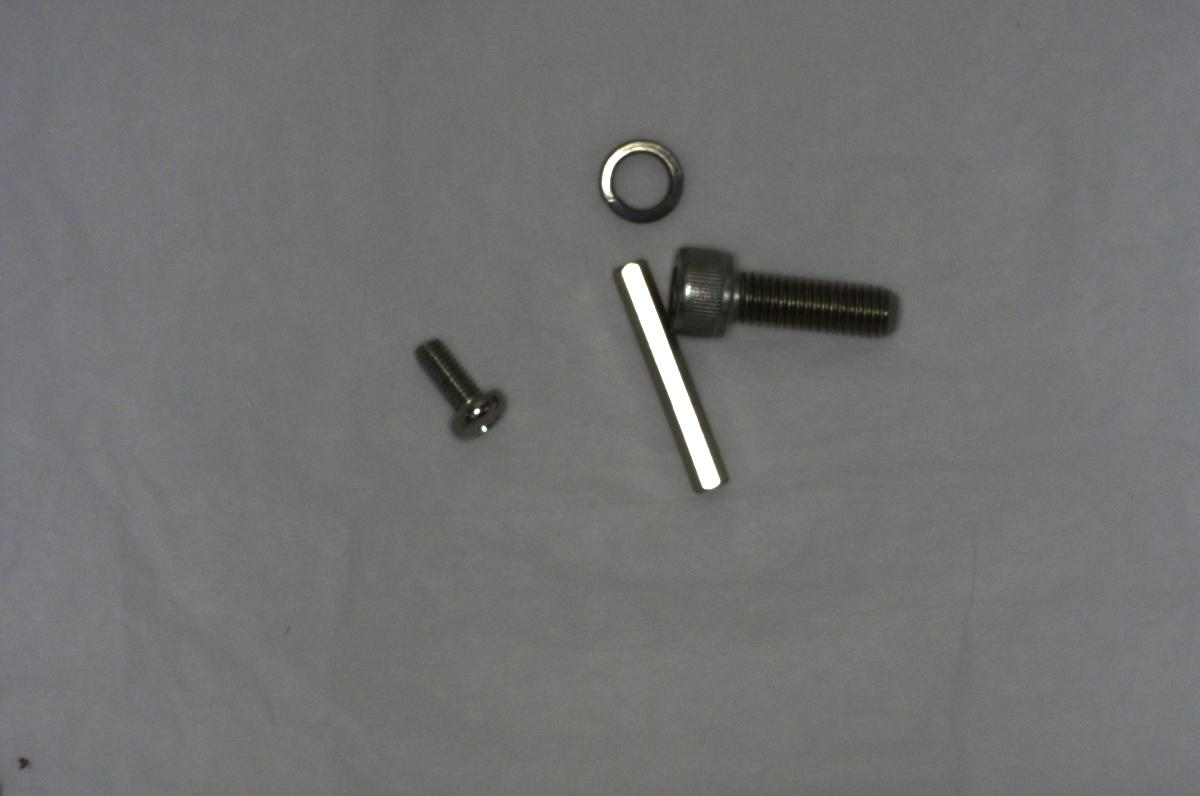Double hexagonal column: (613, 246, 727, 495)
Hexagon screw: (661, 236, 910, 348)
Round head screw: (406, 335, 512, 447)
Spring washer: (594, 127, 690, 229)
